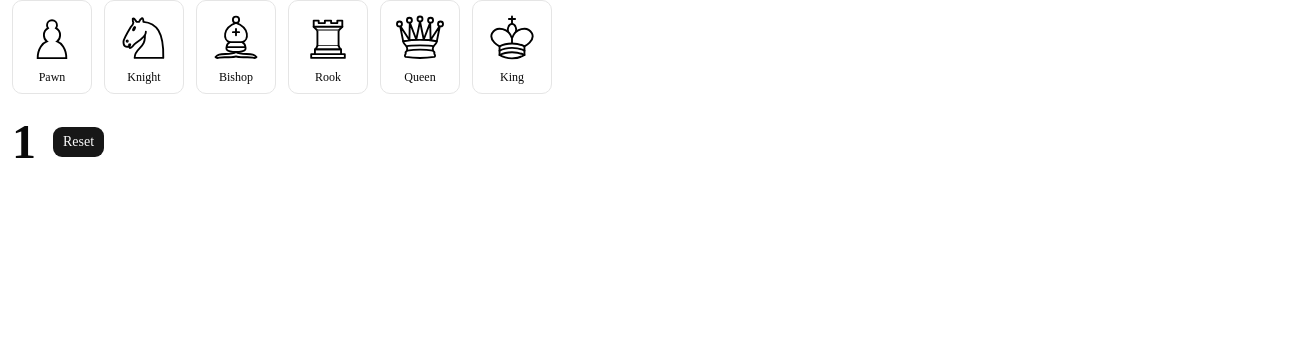
Test: <PieceValuesTraining /> › shows the wrong-answer message when the sum does not match
This screenshot has width=1292, height=345.
Target is 1, Knight is 3 → mismatch.
Click the picture with alt text "Knight": click(144, 37) [116,9,172,65]
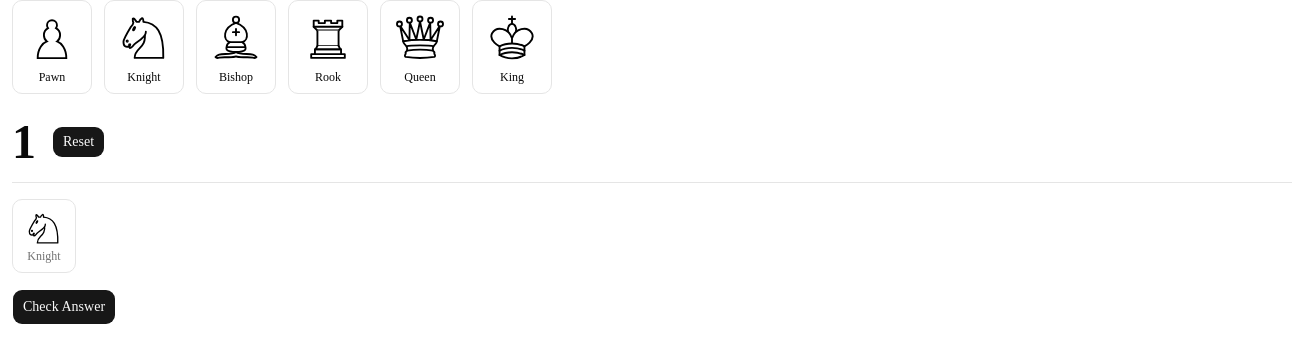
Click the button "Check Answer": click(64, 307) [12,289,116,325]
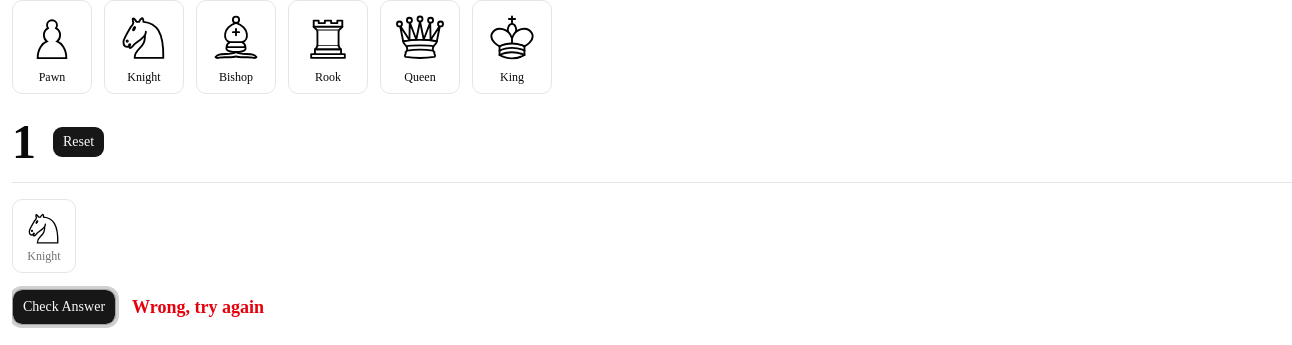
Expected: the text "Wrong, try again" is shown, [132,293,264,321]
